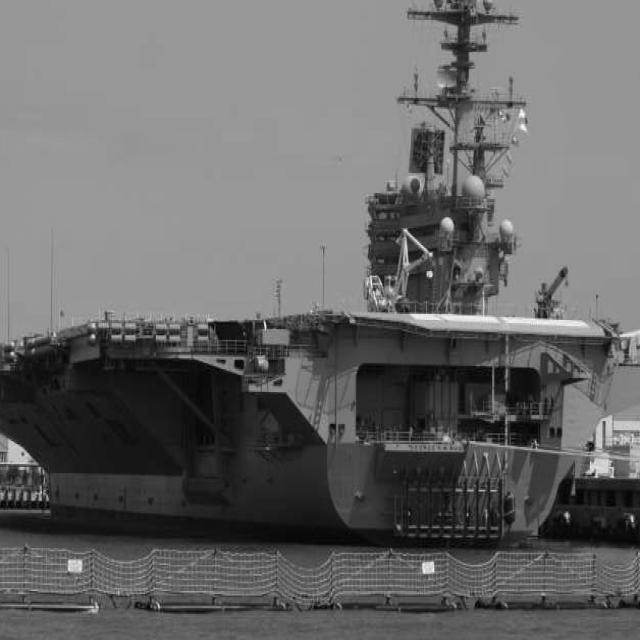Portanaves: (1, 1, 640, 543)
